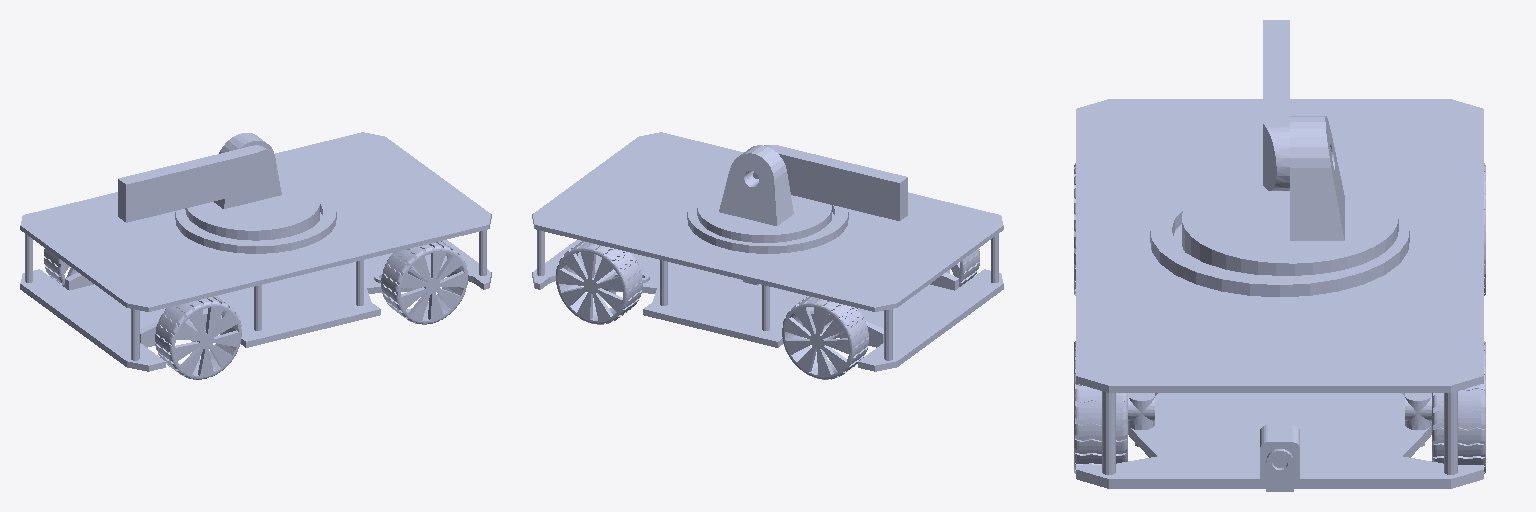
The robot description file, URDF, robot "car2":
<?xml version="1.0" encoding="utf-8"?>
<!-- This URDF was automatically created by SolidWorks to URDF Exporter! Originally created by [author] ([email redacted]) 
     Commit Version: 1.6.0-4-g7f85cfe  Build Version: 1.6.7995.38578
     For more information, please see http://wiki.ros.org/sw_urdf_exporter -->
<robot name="car2">
  <link name="car">
    <inertial>
      <origin xyz="-0.0027074 -3.0003E-16 0.017167" rpy="0 0 0" />
      <mass value="0.02" />
      <inertia ixx="0.00043157" ixy="-4.1737E-18" ixz="2.7447E-06" iyy="0.0012682" iyz="3.0153E-20" izz="0.0016932" />
    </inertial>
    <visual>
      <origin xyz="0 0 0" rpy="0 0 0" />
      <geometry>
        <mesh filename="package://car2/meshes/car.STL" />
      </geometry>
      <material name="">
        <color rgba="0.79216 0.81961 0.93333 1" />
      </material>
    </visual>
    <collision>
      <origin xyz="0 0 0" rpy="0 0 0" />
      <geometry>
        <mesh filename="package://car2/meshes/car.STL" />
      </geometry>
    </collision>
  </link>
  <link name="r_wheel_link">
    <inertial>
      <origin xyz="-0.00378190594294554 1.97642154184385E-07 -0.00657870584365291" rpy="0 0 0" />
      <mass value="0.00124397619652833" />
      <inertia ixx="3.35972126452314E-08" ixy="-1.24282669053489E-12" ixz="7.42692787875443E-09" iyy="8.89962659917208E-08" iyz="-1.41962818240552E-12" izz="7.26260074714814E-08" />
    </inertial>
    <visual>
      <origin xyz="0 0 0" rpy="0 0 0" />
      <geometry>
        <mesh filename="package://car2/meshes/r_wheel_link.STL" />
      </geometry>
      <material name="">
        <color rgba="0.792156862745098 0.819607843137255 0.933333333333333 1" />
      </material>
    </visual>
    <collision>
      <origin xyz="0 0 0" rpy="0 0 0" />
      <geometry>
        <mesh filename="package://car2/meshes/r_wheel_link.STL" />
      </geometry>
    </collision>
  </link>
  <joint name="r_wheel_joint" type="revolute">
    <origin xyz="0.076709 -0.050979 0.012" rpy="0 0 0" />
    <parent link="car" />
    <child link="r_wheel_link" />
    <axis xyz="0 0 1" />
    <limit lower="0" upper="0" effort="0" velocity="0" />
  </joint>
  <link name="wheel1_link">
    <inertial>
      <origin xyz="-1.38777878078145E-17 0.00835500060925576 -5.20417042793042E-17" rpy="0 0 0" />
      <mass value="0.05" />
      <inertia ixx="2.97355567460469E-06" ixy="-6.48236144271607E-21" ixz="-4.61169347369653E-21" iyy="4.93022491701447E-06" iyz="9.14430351930179E-22" izz="2.97355567460471E-06" />
    </inertial>
    <visual>
      <origin xyz="0 0 0" rpy="0 0 0" />
      <geometry>
        <mesh filename="package://car2/meshes/wheel1_link.STL" />
      </geometry>
      <material name="">
        <color rgba="0.792156862745098 0.819607843137255 0.933333333333333 1" />
      </material>
    </visual>
    <collision>
      <origin xyz="0 0 0" rpy="0 0 0" />
      <geometry>
        <mesh filename="package://car2/meshes/wheel1_link.STL" />
      </geometry>
    </collision>
  </link>
  <joint name="wheel1_joint" type="continuous">
    <origin xyz="0 -0.025 -0.005" rpy="0 0 0" />
    <parent link="r_wheel_link" />
    <child link="wheel1_link" />
    <axis xyz="0 1 0" />
  </joint>
  <link name="l_wheel_link">
    <inertial>
      <origin xyz="-0.00378190594294553 1.97642154142752E-07 -0.00657870584365291" rpy="0 0 0" />
      <mass value="0.00124397619652833" />
      <inertia ixx="3.35972126452314E-08" ixy="-1.24282669034389E-12" ixz="7.42692787875444E-09" iyy="8.89962659917207E-08" iyz="-1.41962818244858E-12" izz="7.26260074714813E-08" />
    </inertial>
    <visual>
      <origin xyz="0 0 0" rpy="0 0 0" />
      <geometry>
        <mesh filename="package://car2/meshes/l_wheel_link.STL" />
      </geometry>
      <material name="">
        <color rgba="0.792156862745098 0.819607843137255 0.933333333333333 1" />
      </material>
    </visual>
    <collision>
      <origin xyz="0 0 0" rpy="0 0 0" />
      <geometry>
        <mesh filename="package://car2/meshes/l_wheel_link.STL" />
      </geometry>
    </collision>
  </link>
  <joint name="l_wheel_joint" type="revolute">
    <origin xyz="0.076709 0.050979 0.012" rpy="0 0 0" />
    <parent link="car" />
    <child link="l_wheel_link" />
    <axis xyz="0 0 1" />
    <limit lower="0" upper="0" effort="0" velocity="0" />
  </joint>
  <link name="wheel2_link">
    <inertial>
      <origin xyz="-3.19189119579733E-16 -0.00835500060925579 2.46330733588707E-16" rpy="0 0 0" />
      <mass value="0.05" />
      <inertia ixx="2.97355567460469E-06" ixy="5.43807803572984E-20" ixz="7.62557127197317E-21" iyy="4.93022491701446E-06" iyz="3.52125469475346E-21" izz="2.9735556746047E-06" />
    </inertial>
    <visual>
      <origin xyz="0 0 0" rpy="0 0 0" />
      <geometry>
        <mesh filename="package://car2/meshes/wheel2_link.STL" />
      </geometry>
      <material name="">
        <color rgba="0.792156862745098 0.819607843137255 0.933333333333333 1" />
      </material>
    </visual>
    <collision>
      <origin xyz="0 0 0" rpy="0 0 0" />
      <geometry>
        <mesh filename="package://car2/meshes/wheel2_link.STL" />
      </geometry>
    </collision>
  </link>
  <joint name="wheel2_joint" type="continuous">
    <origin xyz="0 0.025 -0.005" rpy="0 0 0" />
    <parent link="l_wheel_link" />
    <child link="wheel2_link" />
    <axis xyz="0 1 0" />
  </joint>
  <link name="wheel3_link">
    <inertial>
      <origin xyz="-2.08166817117217E-16 -0.00835500060925574 -6.76542155630955E-17" rpy="0 0 0" />
      <mass value="0.05" />
      <inertia ixx="2.9735556746047E-06" ixy="5.55201970900145E-20" ixz="4.71105208243082E-21" iyy="4.93022491701447E-06" iyz="-2.30328909794717E-21" izz="2.9735556746047E-06" />
    </inertial>
    <visual>
      <origin xyz="0 0 0" rpy="0 0 0" />
      <geometry>
        <mesh filename="package://car2/meshes/wheel3_link.STL" />
      </geometry>
      <material name="">
        <color rgba="0.792156862745098 0.819607843137255 0.933333333333333 1" />
      </material>
    </visual>
    <collision>
      <origin xyz="0 0 0" rpy="0 0 0" />
      <geometry>
        <mesh filename="package://car2/meshes/wheel3_link.STL" />
      </geometry>
    </collision>
  </link>
  <joint name="wheel3_joint" type="continuous">
    <origin xyz="-0.078291 0.076 0.007" rpy="0 0 0" />
    <parent link="car" />
    <child link="wheel3_link" />
    <axis xyz="0 1 0" />
  </joint>
  <link name="wheel4_link">
    <inertial>
      <origin xyz="8.32667268468867E-17 0.00835500060925574 1.50920942409982E-16" rpy="0 0 0" />
      <mass value="0.05" />
      <inertia ixx="2.9735556746047E-06" ixy="-9.71262221525064E-21" ixz="-6.50758497531929E-21" iyy="4.93022491701447E-06" iyz="-6.39439453700751E-21" izz="2.9735556746047E-06" />
    </inertial>
    <visual>
      <origin xyz="0 0 0" rpy="0 0 0" />
      <geometry>
        <mesh filename="package://car2/meshes/wheel4_link.STL" />
      </geometry>
      <material name="">
        <color rgba="0.792156862745098 0.819607843137255 0.933333333333333 1" />
      </material>
    </visual>
    <collision>
      <origin xyz="0 0 0" rpy="0 0 0" />
      <geometry>
        <mesh filename="package://car2/meshes/wheel4_link.STL" />
      </geometry>
    </collision>
  </link>
  <joint name="wheel4_joint" type="continuous">
    <origin xyz="-0.078291 -0.076 0.007" rpy="0 0 0" />
    <parent link="car" />
    <child link="wheel4_link" />
    <axis xyz="0 1 0" />
  </joint>
  <link name="arm_base_link">
    <inertial>
      <origin xyz="0.000910433121614637 -0.00433390442586054 8.32773883386243E-09" rpy="0 0 0" />
      <mass value="0.07017488534617" />
      <inertia ixx="4.38116101053683E-05" ixy="2.35120127682087E-06" ixz="-1.5358404688431E-11" iyy="3.10677926351619E-05" iyz="5.45464427696522E-12" izz="3.06109146907153E-05" />
    </inertial>
    <visual>
      <origin xyz="0 0 0" rpy="0 0 0" />
      <geometry>
        <mesh filename="package://car2/meshes/arm_base_link.STL" />
      </geometry>
      <material name="">
        <color rgba="0.792156862745098 0.819607843137255 0.933333333333333 1" />
      </material>
    </visual>
    <collision>
      <origin xyz="0 0 0" rpy="0 0 0" />
      <geometry>
        <mesh filename="package://car2/meshes/arm_base_link.STL" />
      </geometry>
    </collision>
  </link>
  <joint name="arm_base_joint" type="revolute">
    <origin xyz="-0.00079055 0.0018928 0.048" rpy="3.1416 -1.5708 0" />
    <parent link="car" />
    <child link="arm_base_link" />
    <axis xyz="1 0 0" />
    <limit lower="-3.14" upper="3.14" effort="10" velocity="1" />
  </joint>
  <link name="arm_link">
    <inertial>
      <origin xyz="0.0422431195151998 0.00482877870291687 -1.11860933016406E-09" rpy="0 0 0" />
      <mass value="0.025111069557619" />
      <inertia ixx="1.50238726311773E-06" ixy="-1.95293714809877E-07" ixz="-1.09917391696648E-12" iyy="2.24829187572783E-05" iyz="4.78031926159686E-14" izz="2.14299431344385E-05" />
    </inertial>
    <visual>
      <origin xyz="0 0 0" rpy="0 0 0" />
      <geometry>
        <mesh filename="package://car2/meshes/arm_link.STL" />
      </geometry>
      <material name="">
        <color rgba="0.792156862745098 0.819607843137255 0.933333333333333 1" />
      </material>
    </visual>
    <collision>
      <origin xyz="0 0 0" rpy="0 0 0" />
      <geometry>
        <mesh filename="package://car2/meshes/arm_link.STL" />
      </geometry>
    </collision>
  </link>
  <joint name="arm_joint" type="revolute">
    <origin xyz="0.02457 -0.0018928 0" rpy="0 1.5708 0" />
    <parent link="arm_base_link" />
    <child link="arm_link" />
    <axis xyz="0 1 0" />
    <limit lower="-3.14" upper="0" effort="10" velocity="1" />
  </joint>
  <link name="camera">
    <inertial>
      <origin xyz="-0.00892618611124281 2.09105677235725E-18 -0.000789549115426313" rpy="0 0 0" />
      <mass value="0.00366758846903219" />
      <inertia ixx="1.48146950827686E-07" ixy="-2.10640073960399E-23" ixz="1.08383834631344E-08" iyy="1.59703995617956E-07" iyz="-4.26232491798236E-24" izz="1.38552825545768E-07" />
    </inertial>
    <visual>
      <origin xyz="0 0 0" rpy="0 0 0" />
      <geometry>
        <mesh filename="package://car2/meshes/camera.STL" />
      </geometry>
      <material name="">
        <color rgba="0.792156862745098 0.819607843137255 0.933333333333333 1" />
      </material>
    </visual>
    <collision>
      <origin xyz="0 0 0" rpy="0 0 0" />
      <geometry>
        <mesh filename="package://car2/meshes/camera.STL" />
      </geometry>
    </collision>
  </link>
  <joint name="camera_joint" type="fixed">
    <origin xyz="0.12621 0 0.0075" rpy="0 0 0" />
    <parent link="car" />
    <child link="camera" />
    <axis xyz="0 0 0" />
  </joint>
  <link name="IMU">
    <inertial>
      <origin xyz="8.67361737988404E-19 0 -0.0025" rpy="0 0 0" />
      <mass value="0.001" />
      <inertia ixx="3.54166666666667E-08" ixy="-7.04288268018996E-22" ixz="1.08420217248529E-25" iyy="1.04166666666667E-08" iyz="-7.82164340710411E-25" izz="4.16666666666667E-08" />
    </inertial>
    <visual>
      <origin xyz="0 0 0" rpy="0 0 0" />
      <geometry>
        <mesh filename="package://car2/meshes/IMU.STL" />
      </geometry>
      <material name="">
        <color rgba="0.792156862745098 0.819607843137255 0.933333333333333 1" />
      </material>
    </visual>
    <collision>
      <origin xyz="0 0 0" rpy="0 0 0" />
      <geometry>
        <mesh filename="package://car2/meshes/IMU.STL" />
      </geometry>
    </collision>
  </link>
  <joint name="IMU_joint" type="fixed">
    <origin xyz="0.0042095 0.0025 0.005" rpy="0 0 0" />
    <parent link="car" />
    <child link="IMU" />
    <axis xyz="0 0 0" />
  </joint>
 
  <gazebo reference="IMU">
      <sensor name="imu_sensor" type="imu">
          <always_on>true</always_on>
          <update_rate>100</update_rate>
          <visualize>true</visualize>
          <plugin filename="libgazebo_ros_imu_sensor.so" name="imu_plugin">
              <topicName>/imu/data</topicName>
              <bodyName>IMU</bodyName>   <!-- Đảm bảo bodyName trùng với imu_link -->
              <updateRateHZ>100.0</updateRateHZ>
              <gaussianNoise>0.01</gaussianNoise>
              <xyzOffset>0 0 0</xyzOffset>
              <rpyOffset>0 0 0</rpyOffset>
              <frameName>IMU</frameName>
              <initialOrientationAsReference>false</initialOrientationAsReference>
          </plugin>
      </sensor>
  </gazebo>

  <gazebo>
    <plugin name="arm_trajectory_controller" filename="libgazebo_ros_joint_pose_trajectory.so">
      <robotNamespace>/car2</robotNamespace>
      <topicName>/car2/arm_trajectory_command</topicName>
      <joints>
        <joint>arm_base_joint</joint>
        <joint>arm_joint</joint>
      </joints>
      <updateRate>100</updateRate>
    </plugin>
  </gazebo>
  
  <gazebo reference="camera">
      <sensor type="camera" name="camera_sensor">
          <update_rate>30</update_rate>
          <camera>
              <horizontal_fov>1.57</horizontal_fov>
              <image>
                  <width>640</width>
                  <height>480</height>
                  <format>R8G8B8</format>
              </image>
              <clip>
                  <near>0.1</near>
                  <far>100</far>
              </clip>
          </camera>
          <plugin name="camera_plugin" filename="libgazebo_ros_camera.so">
              <alwaysOn>true</alwaysOn>
              <updateRate>30.0</updateRate>
              <cameraName>robot_camera</cameraName>
              <imageTopicName>/camera/image_raw</imageTopicName>
              <cameraInfoTopicName>/camera/camera_info</cameraInfoTopicName>
              <frameName>camera</frameName>
          </plugin>
      </sensor>
  </gazebo>

  <gazebo>
   <plugin name="skid_steer_plugin" filename="libgazebo_ros_skid_steer_drive.so">
   
       <!-- Khớp nối của bánh xe -->
       <leftFrontJoint>wheel2_joint</leftFrontJoint>  <!-- Trái trước -->
       <rightFrontJoint>wheel1_joint</rightFrontJoint> <!-- Phải trước -->
       <leftRearJoint>wheel3_joint</leftRearJoint>  <!-- Trái sau -->
       <rightRearJoint>wheel4_joint</rightRearJoint> <!-- Phải sau -->


       <!-- Thông số điều khiển -->
       <wheelSeparation>0.3</wheelSeparation>
       <wheelDiameter>0.1</wheelDiameter>
       <torque>10.0</torque>


       <!-- Cấu hình ROS -->
       <updateRate>100.0</updateRate>
       <commandTopic>cmd_vel</commandTopic>
       <odometrySource>encoder</odometrySource>
       <odometryTopic>odom</odometryTopic>
       <odometryFrame>odom</odometryFrame>
       <robotBaseFrame>base_link</robotBaseFrame>


       <!-- Thông số biến đổi quán tính -->
       <covariance_x>0.0001</covariance_x>
       <covariance_y>0.0001</covariance_y>
       <covariance_yaw>0.01</covariance_yaw>
   </plugin>
 </gazebo>

</robot>

--- Facts derived from the render (not from the file) ---
Views: 3 orthographic renders of the robot side by side, from view 1: azimuth 30°, elevation 25°; view 2: azimuth 150°, elevation 25°; view 3: azimuth 270°, elevation 25°.
Robot: car2 — 11 links, 10 joints (4 revolute, 4 continuous, 2 fixed); root link car; default pose: every joint at zero.
Links seen in each view (by area): view 1: car, arm_link, arm_base_link, wheel1_link, wheel4_link, wheel3_link; view 2: car, arm_base_link, arm_link, wheel2_link, wheel3_link, wheel4_link; view 3: car, arm_base_link, arm_link, wheel1_link, wheel2_link, camera, r_wheel_link, l_wheel_link.
Boxes of the visible links, box(x1,y1,x2,y2) form: car: box(20, 132, 491, 371); arm_link: box(118, 145, 274, 222); arm_base_link: box(185, 133, 319, 240); wheel1_link: box(381, 241, 467, 324); wheel4_link: box(155, 296, 241, 379); wheel3_link: box(44, 248, 76, 286); car: box(532, 132, 1003, 371); arm_base_link: box(697, 145, 831, 242); arm_link: box(753, 145, 907, 220); wheel2_link: box(556, 241, 642, 324); wheel3_link: box(782, 296, 868, 379); wheel4_link: box(947, 248, 979, 286); car: box(1076, 99, 1483, 488); arm_base_link: box(1182, 116, 1398, 275); arm_link: box(1263, 20, 1289, 190); wheel1_link: box(1074, 341, 1127, 473); wheel2_link: box(1432, 341, 1485, 473); camera: box(1260, 425, 1299, 491); r_wheel_link: box(1128, 393, 1154, 446); l_wheel_link: box(1405, 393, 1431, 446).
Bounding box of the posed robot: 0.252 × 0.152 × 0.1059 m (x, y, z).
Meshes: 11 distinct files referenced, 11 mesh visuals loaded (11 binary STL).
